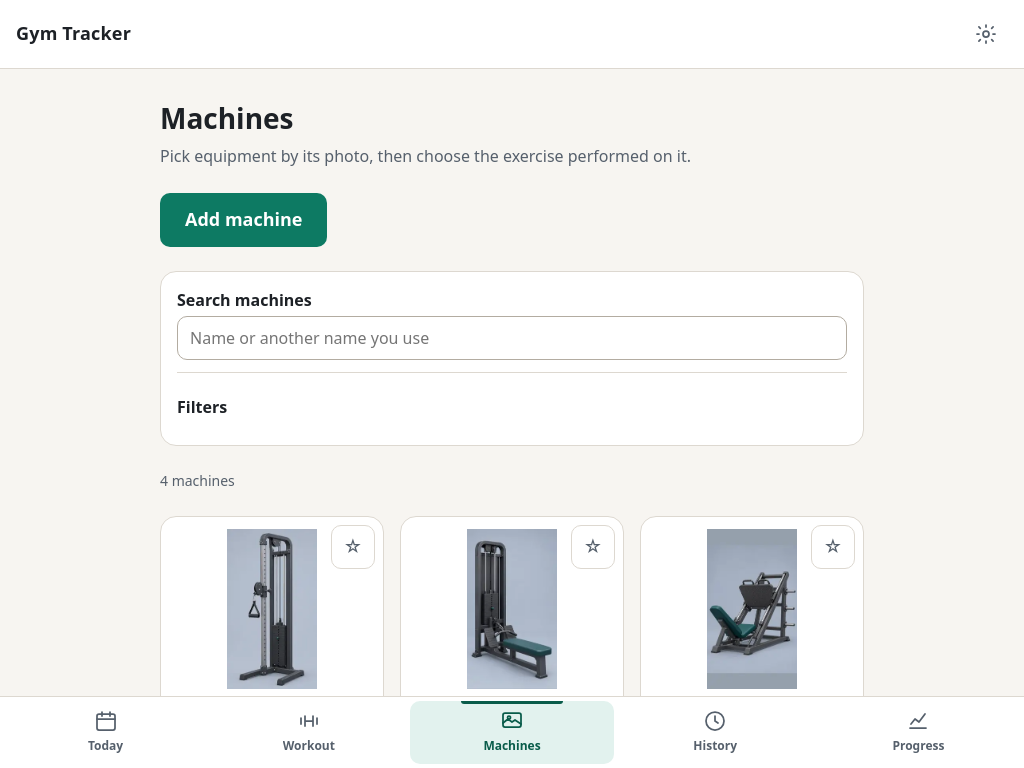
searching › finds a machine by its canonical name
The image size is (1024, 768).
Expected: the link with aria-label "Open Low cable row station" is shown, [413,529,611,717]
In the search field labelled "Search machines": (512, 338) [177,316,847,360], type "low cable"
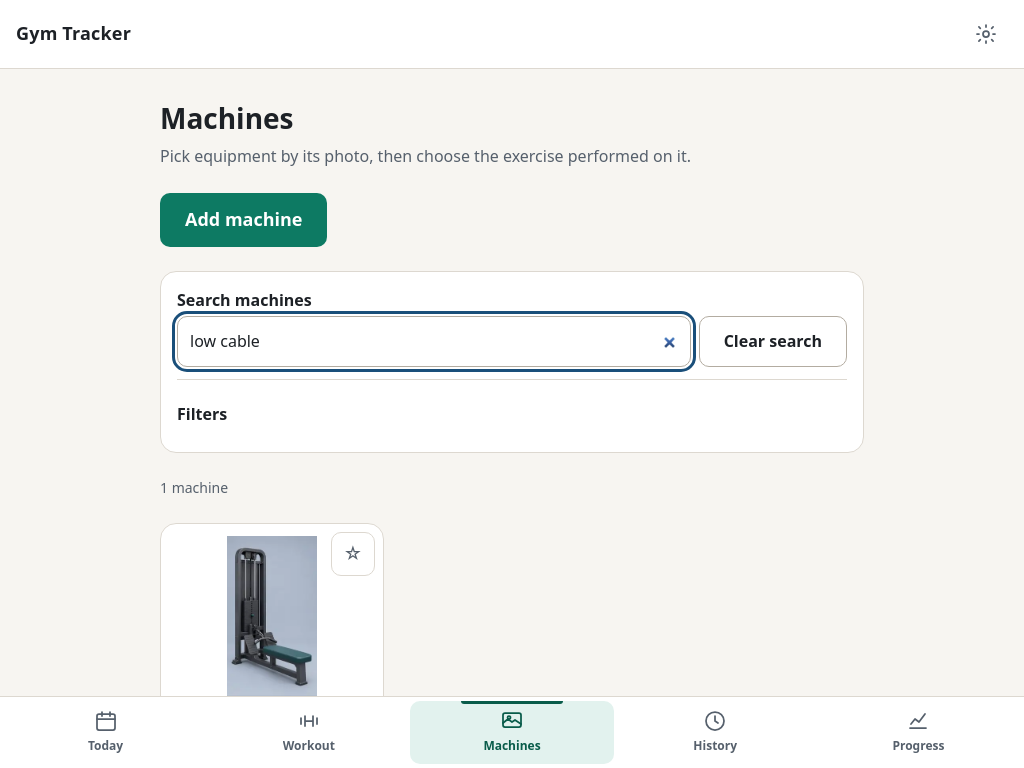
Now the text "1 machine" is shown, box [160,478,228,497]
Now the number of links named "Open " is 1, box [173,536,371,724]
